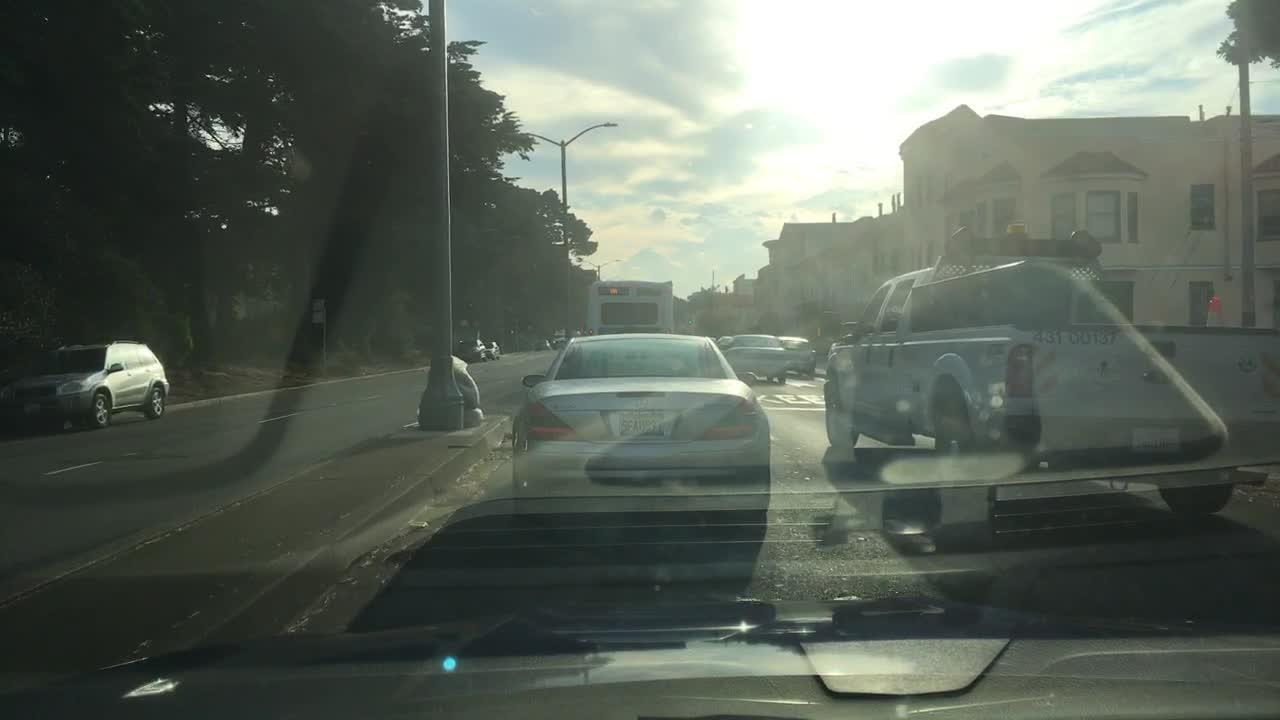Mercedes: (633, 396, 650, 411)
